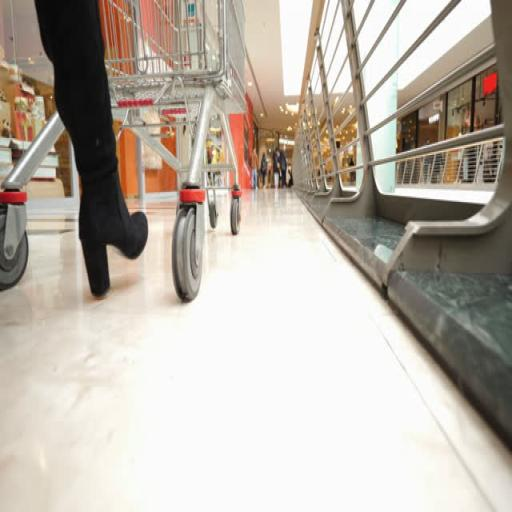shopping_cart: (0, 0, 241, 302)
